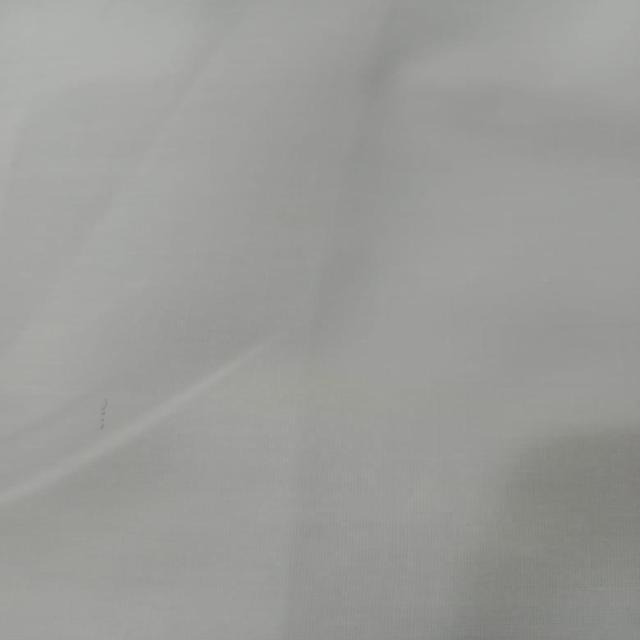contamination: (86, 393, 121, 435)
